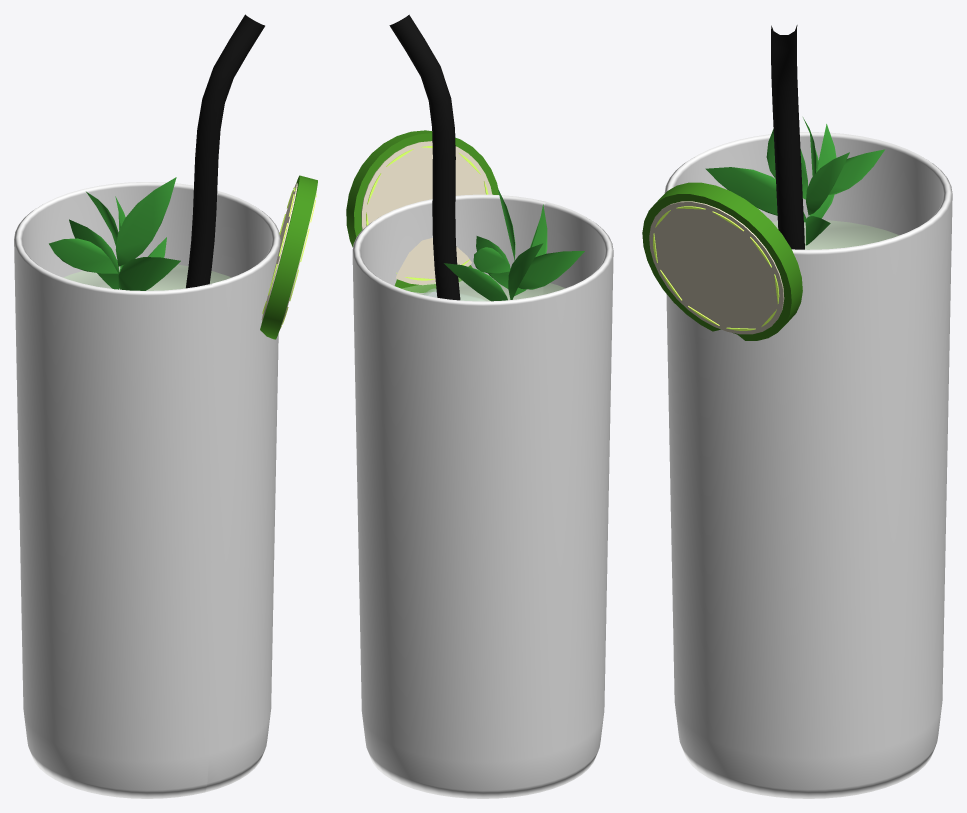
Rendered from mojito.glb.
3 views of the same model, side by side, from view 1: azimuth 30°, elevation 25°; view 2: azimuth 150°, elevation 25°; view 3: azimuth 270°, elevation 25° (orthographic). The views are drawn at different scales.
Visible parts, largest first — view 1: glass, garnish (×3), straw, liquid; view 2: glass, garnish (×3), straw, liquid; view 3: glass, garnish (×4), straw, liquid.
Boxes of the visible parts, box(x1,y1,x2,y2) form: glass: box(14, 182, 280, 798); garnish (×3): box(49, 175, 317, 339); straw: box(186, 14, 264, 288); liquid: box(64, 265, 230, 290); glass: box(352, 194, 613, 798); garnish (×3): box(346, 130, 584, 301); straw: box(389, 14, 460, 300); liquid: box(402, 274, 564, 300); glass: box(664, 132, 952, 798); garnish (×4): box(642, 117, 884, 340); straw: box(771, 25, 804, 249); liquid: box(772, 220, 898, 249).
Size of the model in its own units: 0.0816 by 0.2117 by 0.0764.
